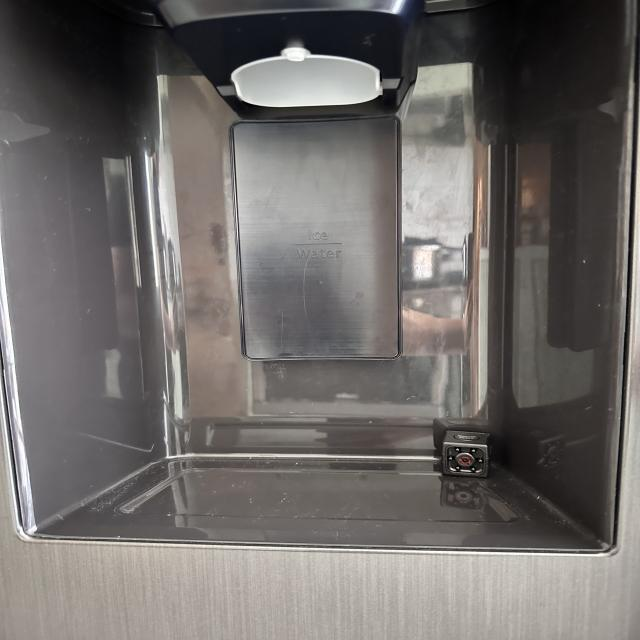hidden camera: (455, 453, 474, 467)
